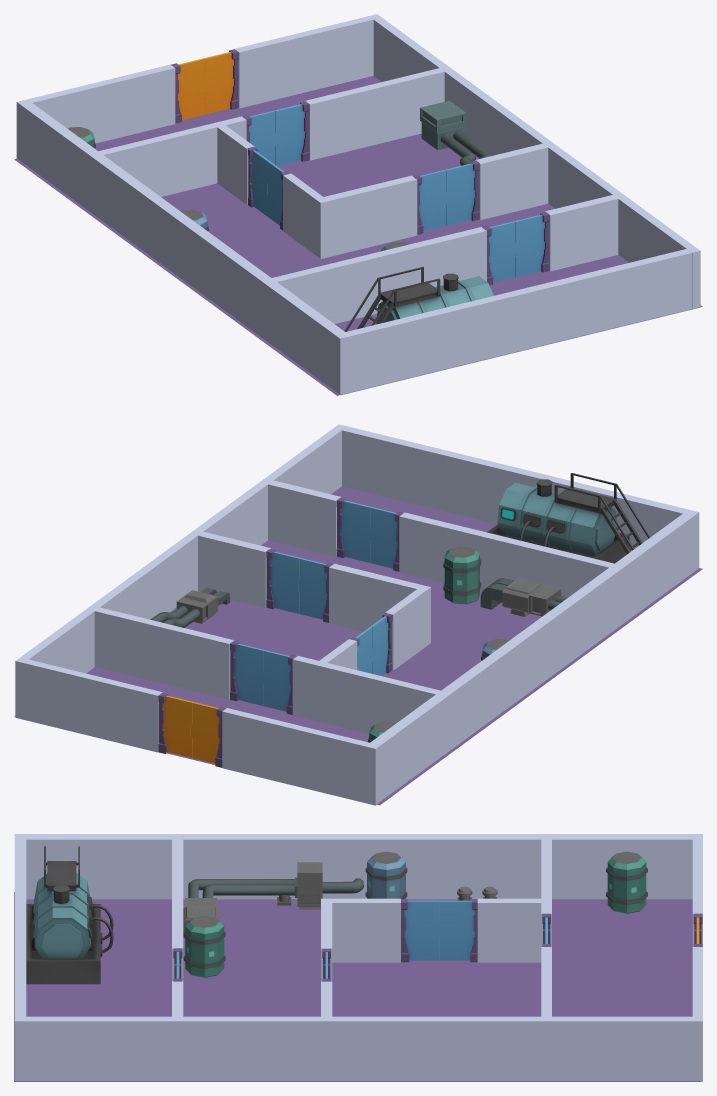
Rendered from maps_14.fbx.
3 renders of one model, top to bottom at view 1: azimuth 30°, elevation 25°; view 2: azimuth 150°, elevation 25°; view 3: azimuth 270°, elevation 25°, orthographic. The views are drawn at different scales.
Parts seen in each view (by area): view 1: polySurface154, polySurface157, polySurface158, polySurface156, polySurface167, polySurface152, polySurface160, polySurface150, polySurface159, polySurface151, door_01_geo (×4), door_02_geo (×4) (+8 smaller); view 2: polySurface157, polySurface158, polySurface154, polySurface156, polySurface159, polySurface152, polySurface160, polySurface150, tankwater_geo1, polySurface167, polySurface151, door_02_geo (×4) (+10 smaller); view 3: polySurface158, polySurface156, polySurface157, polySurface149, tankwater_geo1, generatorStation_03_geo1, polySurface154, tank_03_geo, tank_01_geo, door_01_geo, door_02_geo, tank02__geo (+8 smaller).
Part boxes in pixels (x1,y1,x2,y2): polySurface154: (334, 249, 691, 395); polySurface157: (17, 99, 347, 390); polySurface158: (14, 76, 702, 395); polySurface156: (369, 14, 700, 309); polySurface167: (315, 142, 553, 258); polySurface152: (261, 227, 486, 340); polySurface160: (235, 16, 373, 108); polySurface150: (305, 68, 444, 160); polySurface159: (16, 64, 175, 161); polySurface151: (87, 116, 246, 213); door_01_geo (×4): (251, 104, 544, 277); door_02_geo (×4): (249, 110, 517, 282); polySurface157: (365, 509, 696, 804); polySurface158: (14, 486, 702, 805); polySurface154: (342, 426, 699, 571); polySurface156: (15, 424, 346, 719); polySurface159: (222, 708, 380, 805); polySurface152: (399, 512, 624, 625); polySurface160: (23, 659, 162, 752); polySurface150: (94, 607, 233, 699); tankwater_geo1: (487, 473, 650, 563); polySurface167: (195, 530, 428, 646); polySurface151: (292, 656, 451, 752); door_02_geo (×4): (262, 507, 397, 711); polySurface158: (14, 892, 701, 1081); polySurface156: (14, 1016, 702, 1081); polySurface157: (15, 834, 702, 899); polySurface149: (321, 898, 551, 962); tankwater_geo1: (26, 846, 113, 984); generatorStation_03_geo1: (183, 862, 363, 938); polySurface154: (14, 834, 26, 1016); tank_03_geo: (183, 915, 225, 977); tank_01_geo: (606, 851, 647, 913); door_01_geo: (439, 900, 474, 960); door_02_geo: (404, 900, 440, 960); tank02__geo: (365, 851, 407, 898).
Bounding box in the file's own units: 59.86 × 12.49 × 91.75.
Materials: 6 (6 with a texture image).
